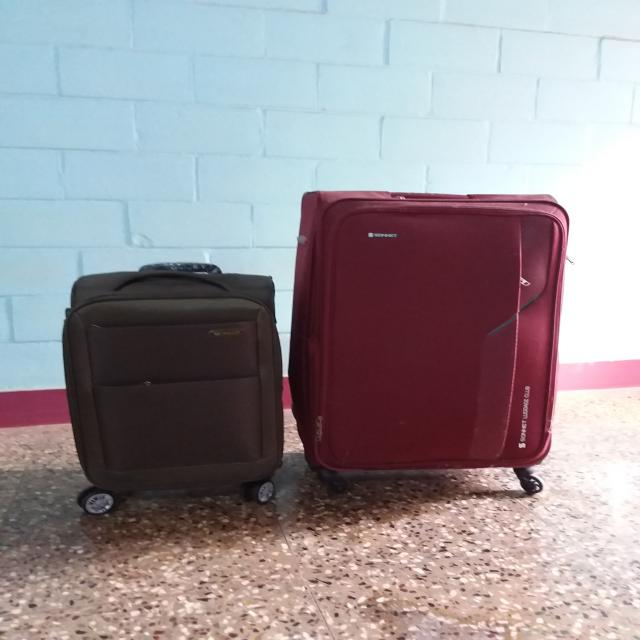suitcaserotation: (284, 185, 572, 497), (57, 258, 287, 516)
